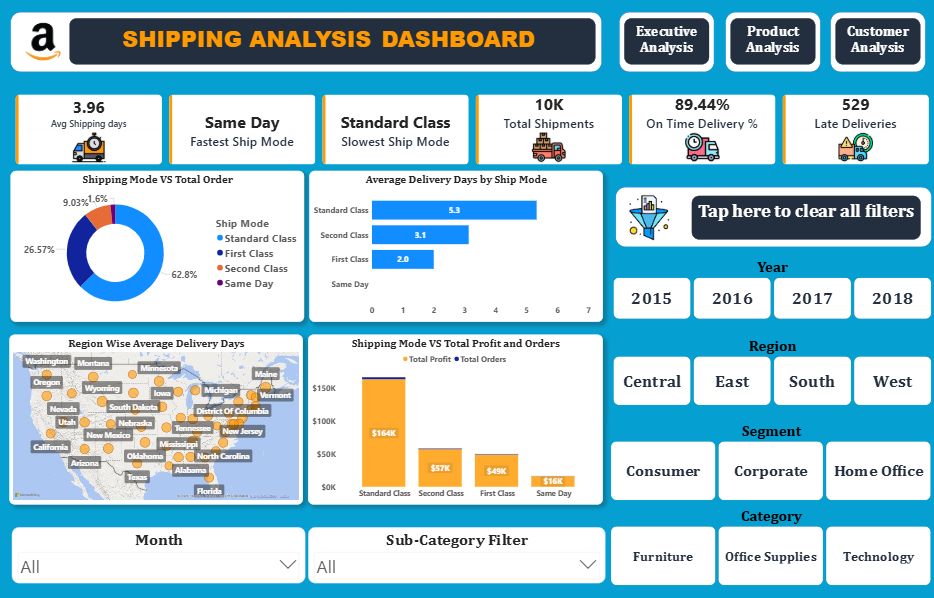

Layout of this report page (visuals, bound fields, positions):
{"tool":"powerbi","page":{"name":"Shipping And Operations","canvas":[2500,1610],"ordinal":3},"visuals":[{"type":"shape","box":[33.3,40,1576.7,160],"z":0},{"type":"cardVisual","fields":{"Data":["Orders.Avg Shipping Days","Orders.Fastest Ship Mode","Orders.Slowest Ship Mode","Orders.Total Shipments","Orders.On Time Delivery %","Orders.Late Deliveries"]},"box":[30,243.3,2470,220],"z":1000},{"type":"donutChart","title":"Shipping Mode VS Total Order","fields":{"Category":["Orders.Ship Mode"],"Y":["Orders.Total Sales"]},"box":[33.3,463.3,783.3,403.3],"z":2000},{"type":"clusteredBarChart","title":"Average Delivery Days by Ship Mode","fields":{"Category":["Orders.Ship Mode"],"Y":["Orders.Avg Shipping Days"]},"box":[830,463.3,783.3,403.3],"z":3000},{"type":"map","title":"Region Wise Average Delivery Days","fields":{"Category":["Orders.State"],"Size":["Orders.Avg Shipping Days"]},"box":[30,900,783.3,453.3],"z":4000},{"type":"columnChart","title":"Shipping Mode VS Total Profit and Orders","fields":{"Category":["Orders.Ship Mode"],"Y":["Orders.Total Profit","Orders.Total Orders"]},"box":[826.7,900,786.7,453.3],"z":5000},{"type":"advancedSlicerVisual","fields":{"Values":["Custom Calendar.Date.Variation.Date Hierarchy.Year"]},"box":[1630,690,870,180],"z":6000},{"type":"advancedSlicerVisual","fields":{"Values":["Orders.Region"]},"box":[1630,900,870,200],"z":7000},{"type":"advancedSlicerVisual","fields":{"Values":["Orders.Category"]},"box":[1623.3,1353.3,876.7,226.7],"z":8000},{"type":"advancedSlicerVisual","fields":{"Values":["Orders.Segment"]},"box":[1623.3,1126.7,876.7,226.7],"z":9000},{"type":"shape","box":[1656.7,40,253.3,160],"z":10000},{"type":"textbox","box":[1670,56.7,226.7,123.3],"z":11000},{"type":"shape","box":[1940,40,253.3,160],"z":12000},{"type":"textbox","box":[1953.3,56.7,226.7,123.3],"z":13000},{"type":"shape","box":[2220,40,253.3,160],"z":14000},{"type":"textbox","box":[2233.3,56.7,226.7,123.3],"z":15000},{"type":"textbox","box":[190,56.7,1403.3,123.3],"z":16000},{"type":"image","box":[50,50,140,140],"z":17000},{"type":"shape","box":[1646.7,506.7,843.3,160],"z":18000},{"type":"image","box":[1656.7,523.3,160,130],"z":19000},{"type":"slicer","title":"Sub-Category Filter ","fields":{"Values":["Orders.Sub-Category"]},"box":[826.7,1413.3,793.3,150],"z":20000},{"type":"slicer","title":"Month","fields":{"Values":["Custom Calendar.Date.Variation.Date Hierarchy.Month"]},"box":[36.7,1413.3,783.3,150],"z":21000},{"type":"actionButton","box":[1850,530,610,116.7],"z":22000},{"type":"actionButton","box":[1943.3,40,253.3,160],"z":23000},{"type":"actionButton","box":[2220,40,253.3,160],"z":24000},{"type":"actionButton","box":[1656.7,40,253.3,160],"z":25000},{"type":"textbox","box":[1850,530,610,116.7],"z":26000}]}

Visuals, with their boxes in screenshot pixels (x1, y1, x2, y2), scaled from the page's 2500x1610 canvas onto the 934x598 screenshot:
shape: [left=12, top=15, right=601, bottom=74]
cardVisual - Orders.Avg Shipping Days x Orders.Fastest Ship Mode: [left=11, top=90, right=933, bottom=172]
"Shipping Mode VS Total Order" donutChart: [left=12, top=172, right=305, bottom=322]
"Average Delivery Days by Ship Mode" clusteredBarChart: [left=310, top=172, right=603, bottom=322]
"Region Wise Average Delivery Days" map: [left=11, top=334, right=304, bottom=503]
"Shipping Mode VS Total Profit and Orders" columnChart: [left=309, top=334, right=603, bottom=503]
advancedSlicerVisual - Custom Calendar.Date.Variation.Date Hierarchy.Year: [left=609, top=256, right=933, bottom=323]
advancedSlicerVisual - Orders.Region: [left=609, top=334, right=933, bottom=409]
advancedSlicerVisual - Orders.Category: [left=606, top=503, right=933, bottom=587]
advancedSlicerVisual - Orders.Segment: [left=606, top=418, right=933, bottom=503]
shape: [left=619, top=15, right=714, bottom=74]
textbox: [left=624, top=21, right=709, bottom=67]
shape: [left=725, top=15, right=819, bottom=74]
textbox: [left=730, top=21, right=814, bottom=67]
shape: [left=829, top=15, right=924, bottom=74]
textbox: [left=834, top=21, right=919, bottom=67]
textbox: [left=71, top=21, right=595, bottom=67]
image: [left=19, top=19, right=71, bottom=71]
shape: [left=615, top=188, right=930, bottom=248]
image: [left=619, top=194, right=679, bottom=243]
"Sub-Category Filter " slicer: [left=309, top=525, right=605, bottom=581]
"Month" slicer: [left=14, top=525, right=306, bottom=581]
actionButton: [left=691, top=197, right=919, bottom=240]
actionButton: [left=726, top=15, right=821, bottom=74]
actionButton: [left=829, top=15, right=924, bottom=74]
actionButton: [left=619, top=15, right=714, bottom=74]
textbox: [left=691, top=197, right=919, bottom=240]
